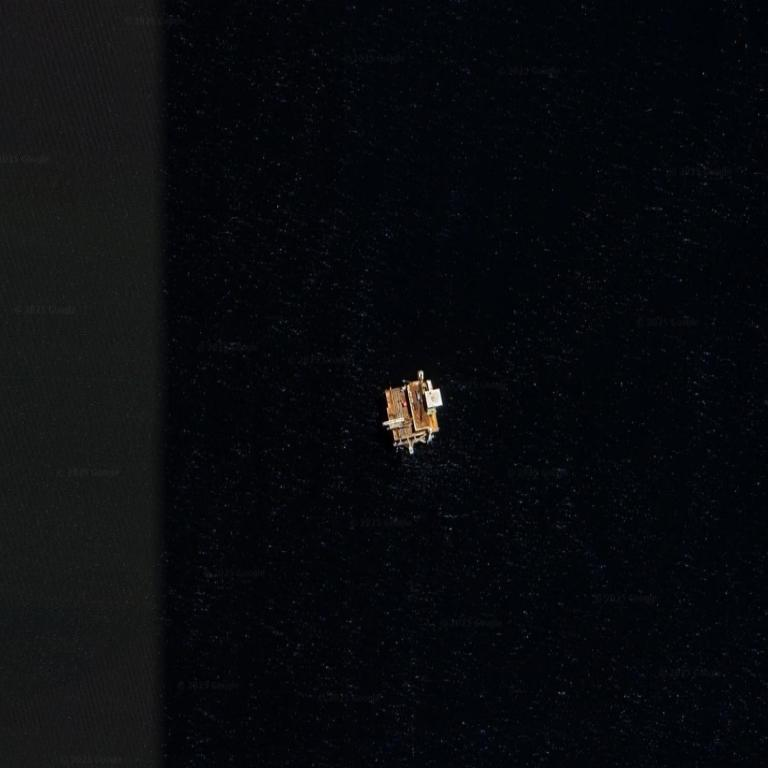platform: (382, 370, 445, 453)
